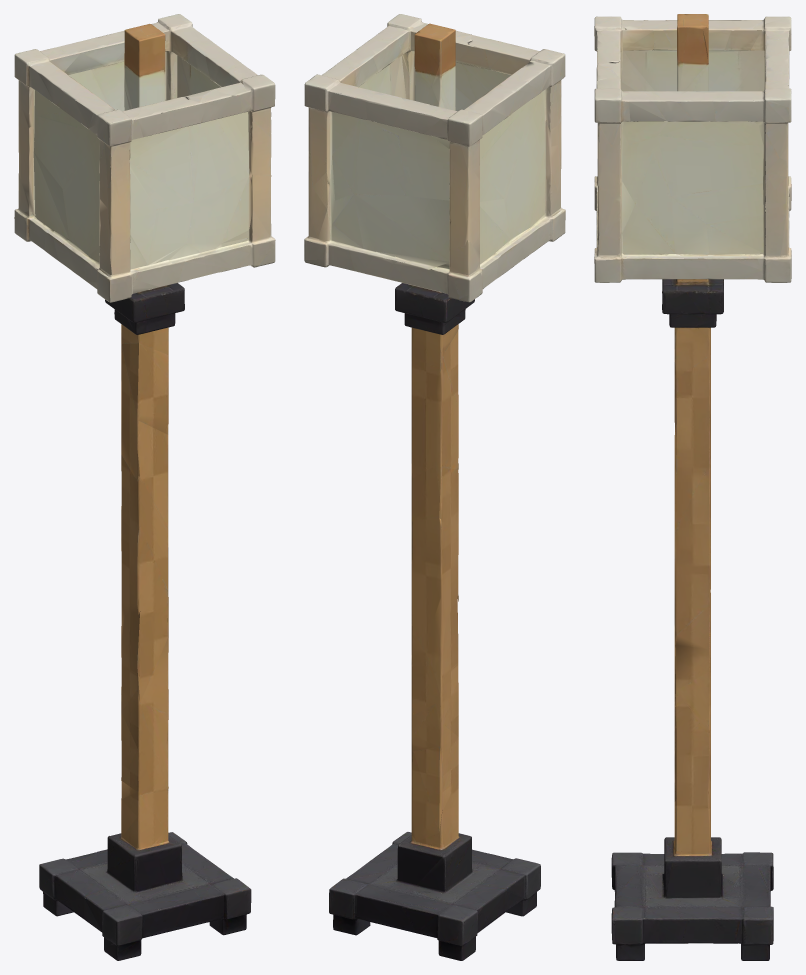
Rendered from floor_lamp.glb.
3 views of the same model, side by side, from view 1: azimuth 30°, elevation 25°; view 2: azimuth 150°, elevation 25°; view 3: azimuth 270°, elevation 25° (orthographic). The views are drawn at different scales.
Bounding box in the file's own units: 0.3929 × 2 × 0.3931.
1 material, 1 textured.
